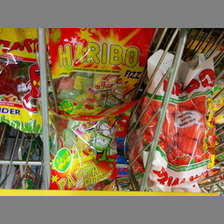candy: (49, 27, 155, 122), (144, 50, 216, 188)
